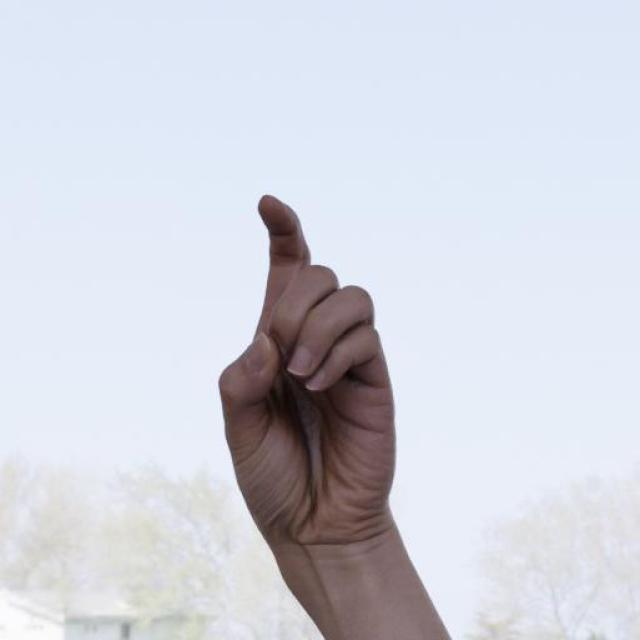X: (212, 189, 411, 555)
